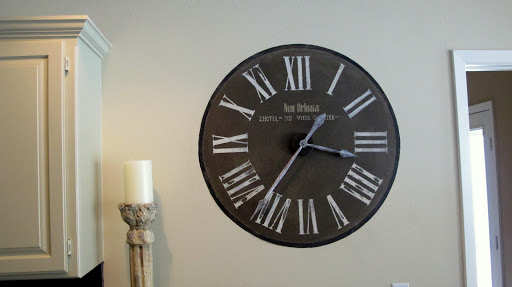clock: (198, 44, 401, 248)
